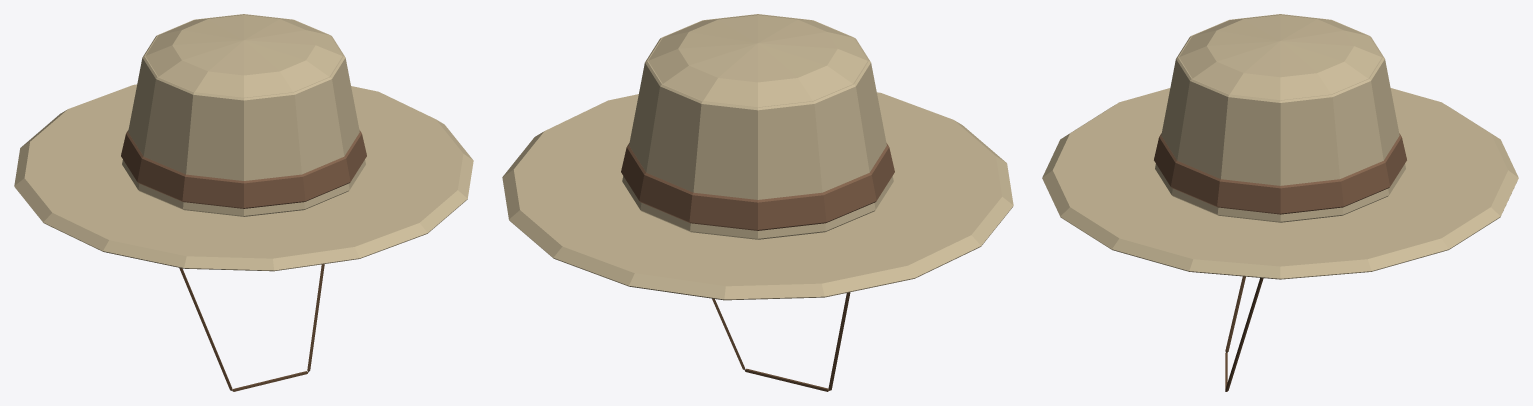
File: b17_wide_brim_sun_hat.glb
The picture shows the model from 3 angles, left to right: view 1: azimuth 30°, elevation 25°; view 2: azimuth 150°, elevation 25°; view 3: azimuth 270°, elevation 25°; orthographic projection. The views are drawn at different scales.
Visible parts, largest first — view 1: b17_wide_brim_sun_hat; view 2: b17_wide_brim_sun_hat; view 3: b17_wide_brim_sun_hat.
Part boxes in pixels (<box>): b17_wide_brim_sun_hat: <box>14,14,473,391</box>; b17_wide_brim_sun_hat: <box>502,14,1013,391</box>; b17_wide_brim_sun_hat: <box>1042,14,1518,391</box>.
Size of the model in its own units: 0.3978 by 0.306 by 0.3978.
